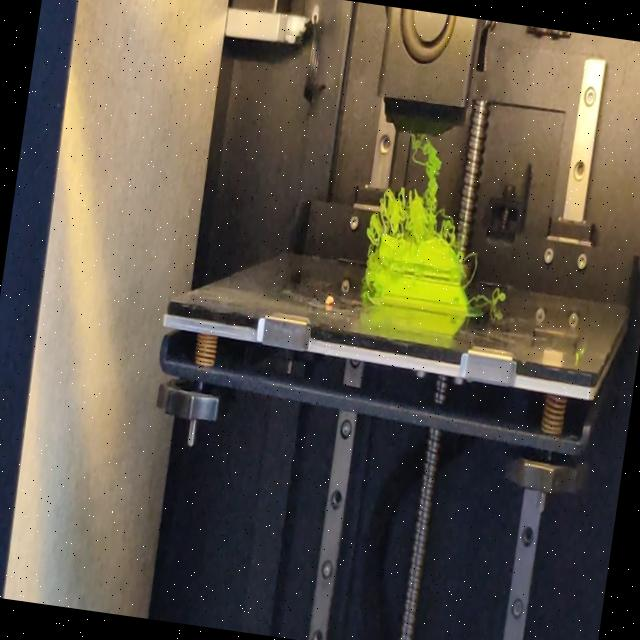spaghetti: (367, 129, 468, 253), (458, 246, 480, 286), (469, 286, 506, 308), (359, 287, 376, 309)
